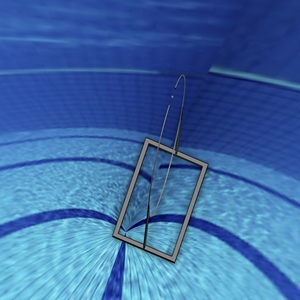circle: (112, 71, 209, 261)
